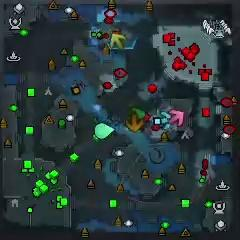p2: (94, 122, 116, 139)
x1: (169, 109, 184, 127)
x2: (110, 32, 125, 49)
x3: (158, 111, 173, 129)
x4: (129, 107, 146, 120)
x5: (126, 113, 143, 133)
